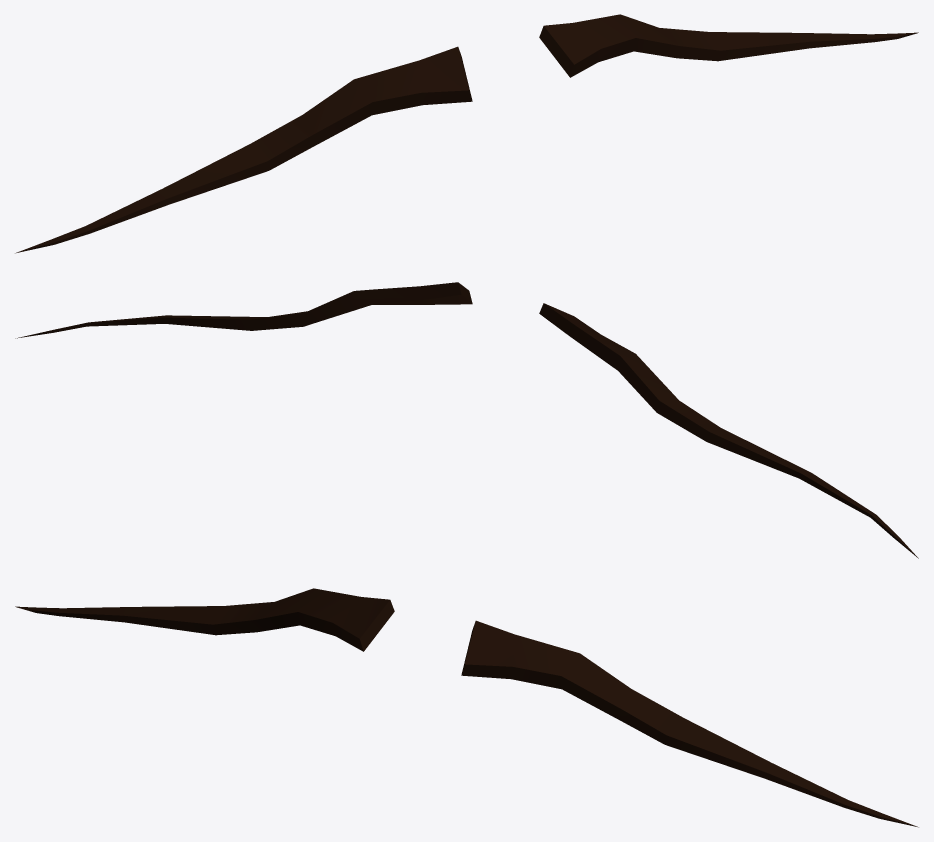
Rendered from Brow 14.FBX.
3 renders of one model, top to bottom at view 1: azimuth 30°, elevation 25°; view 2: azimuth 150°, elevation 25°; view 3: azimuth 330°, elevation 25°, orthographic.
Visible parts, largest first — view 1: Brow 14; view 2: Brow 14; view 3: Brow 14.
Part boxes in pixels (left/top/right/bottom): Brow 14: left=15, top=14, right=918, bottom=253; Brow 14: left=15, top=282, right=918, bottom=558; Brow 14: left=15, top=588, right=918, bottom=827.
Bounding box in the file's own units: 48.29 × 5.06 × 6.72.
